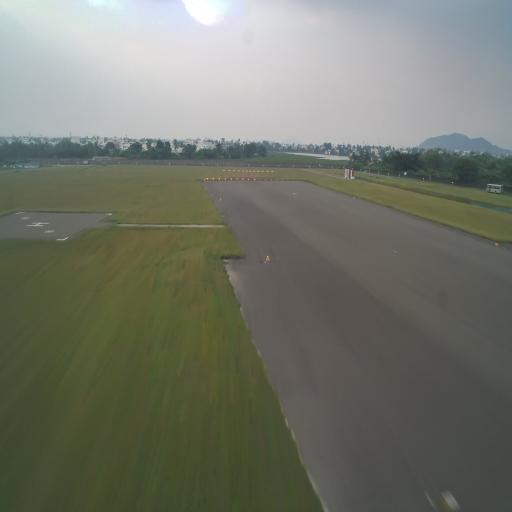off: (440, 481, 459, 512)
on: (264, 254, 272, 266), (493, 238, 499, 248), (218, 195, 224, 203), (212, 176, 215, 180), (224, 177, 227, 181), (204, 177, 206, 182), (230, 177, 232, 182), (248, 177, 250, 182), (253, 177, 255, 182), (206, 177, 208, 181), (218, 177, 220, 181), (236, 177, 238, 181), (242, 177, 244, 181), (259, 178, 261, 182), (264, 178, 266, 182), (353, 196, 355, 200), (270, 178, 272, 181), (276, 178, 278, 181), (287, 178, 288, 182), (282, 178, 283, 181)
